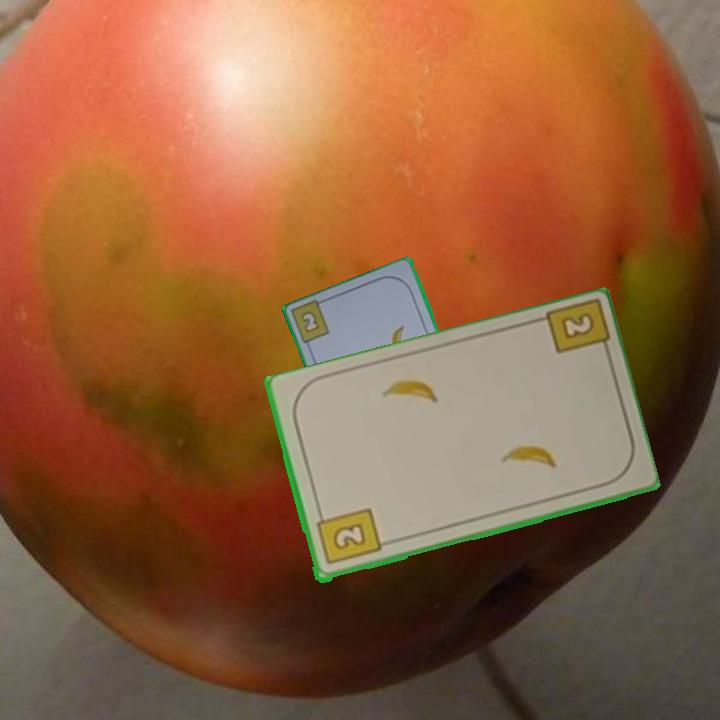2b: (540, 298, 614, 363), (313, 504, 383, 568), (299, 310, 321, 334)
